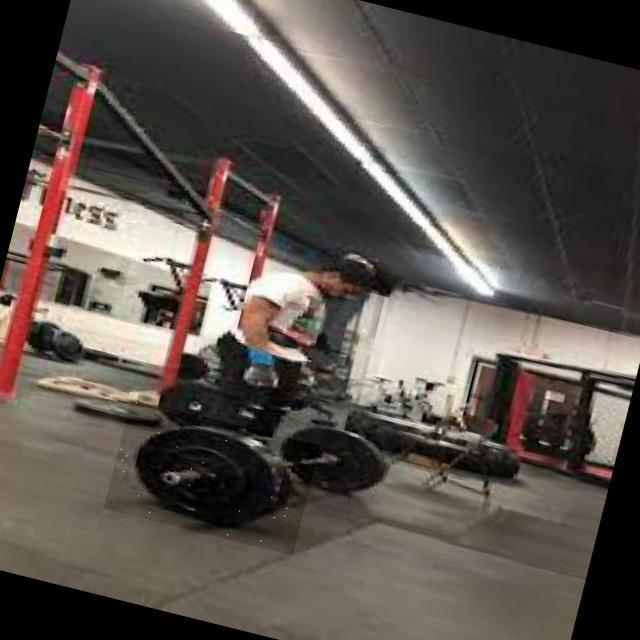barbell: (104, 400, 321, 557)
